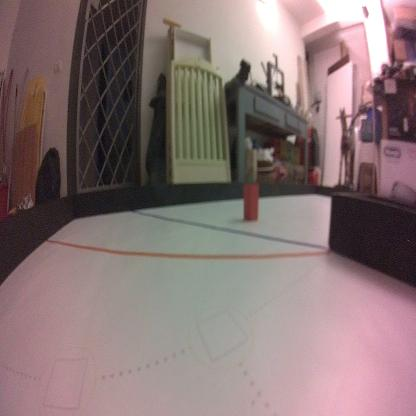red: (242, 180, 260, 223)
